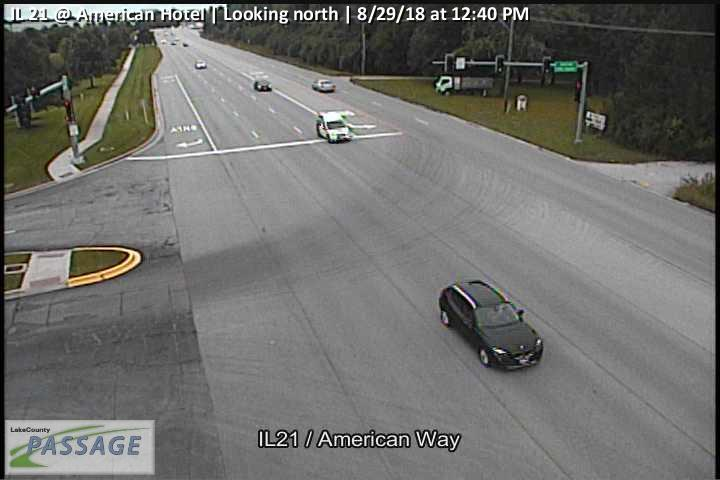Sedan: (438, 278, 544, 370), (316, 111, 353, 144), (311, 77, 336, 92), (253, 78, 272, 91)
Truck: (432, 73, 496, 99)
